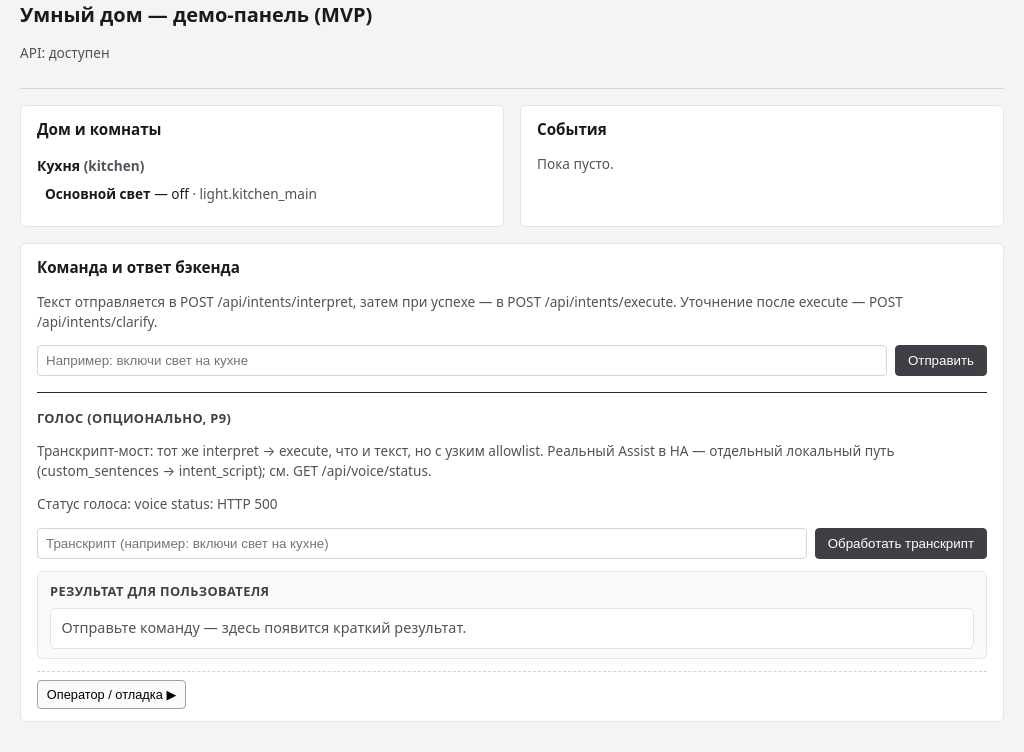
Test: App P6a › execute clarification_required shows options; clarify posts and shows success
Expected: the element with test id "house-state" is shown, [37,156,317,203]
In the field with test id "command-input": (462, 361) [37,345,887,376], type "ambiguous kitchen lights"
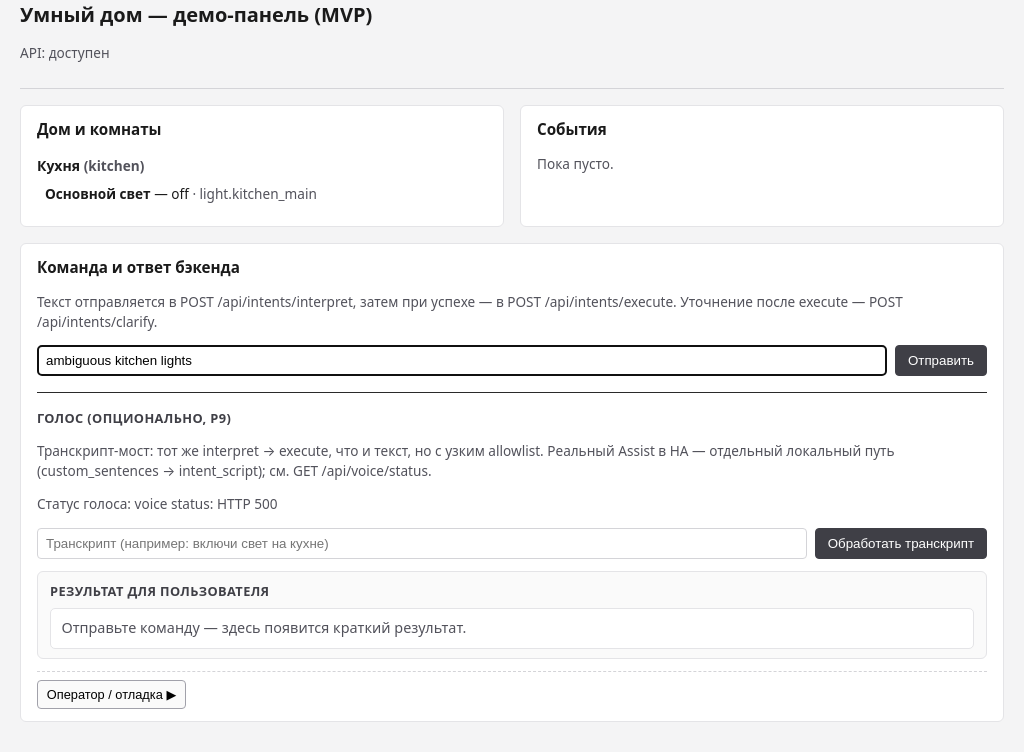
Click the button with test id "command-submit": (941, 361) [895,345,987,376]
(page scrolled)
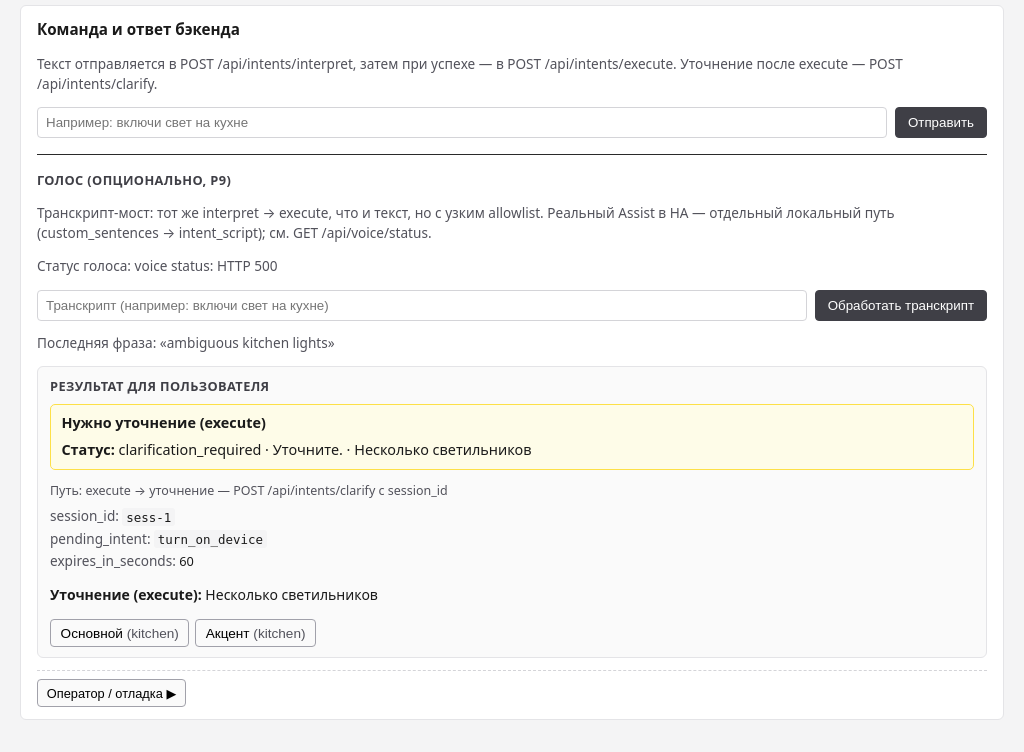
Result: the element with test id "execute-clarification" is shown at [50,482,448,647]
Result: the text with test id "execute-clarification-session" reads "sess-1" at [126,509,171,524]
Result: the element with test id "execute-clarification-pending-intent" shows "turn_on_device" at [158,532,263,547]
Click the button with test id "execute-clarify-light_kitchen_main": (120, 633) [50,619,189,647]
(page scrolled)
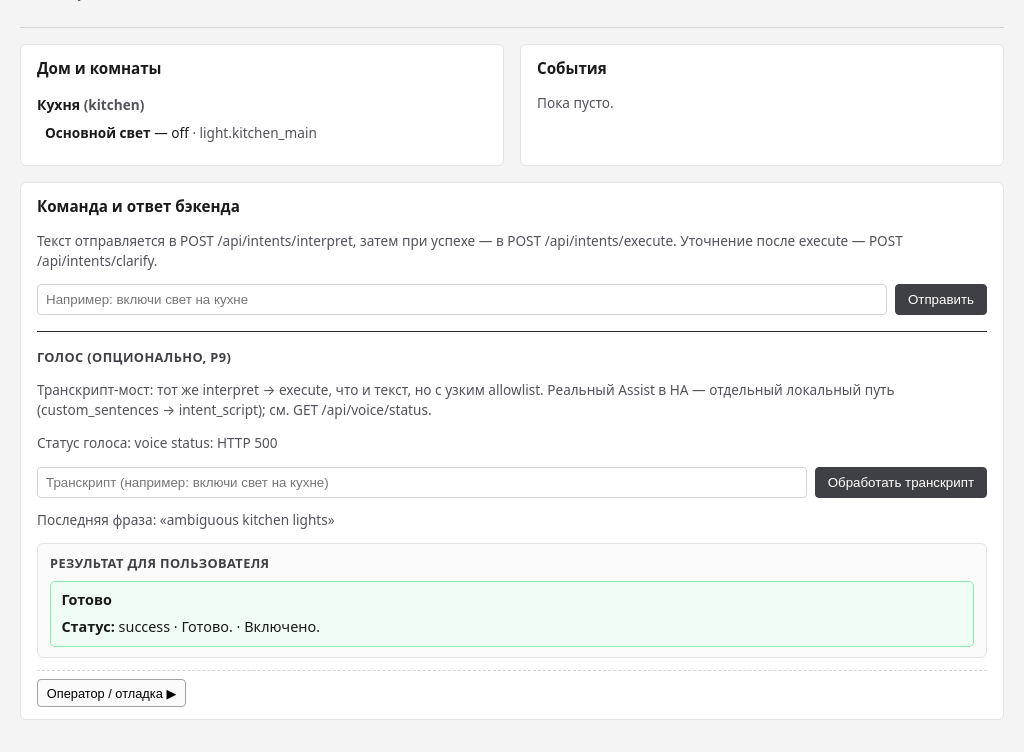
Result: the text with test id "execute-status" reads "success" at [119,617,170,636]
Result: the text with test id "execute-ui-message" reads "Включено." at [244,617,320,636]
